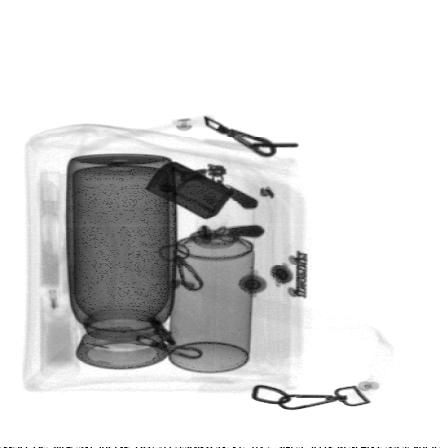Lighter: (144, 160, 236, 220)
Sprayer: (168, 200, 256, 371)
